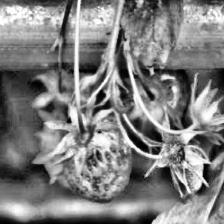Gray Mold: (155, 130, 208, 193)
